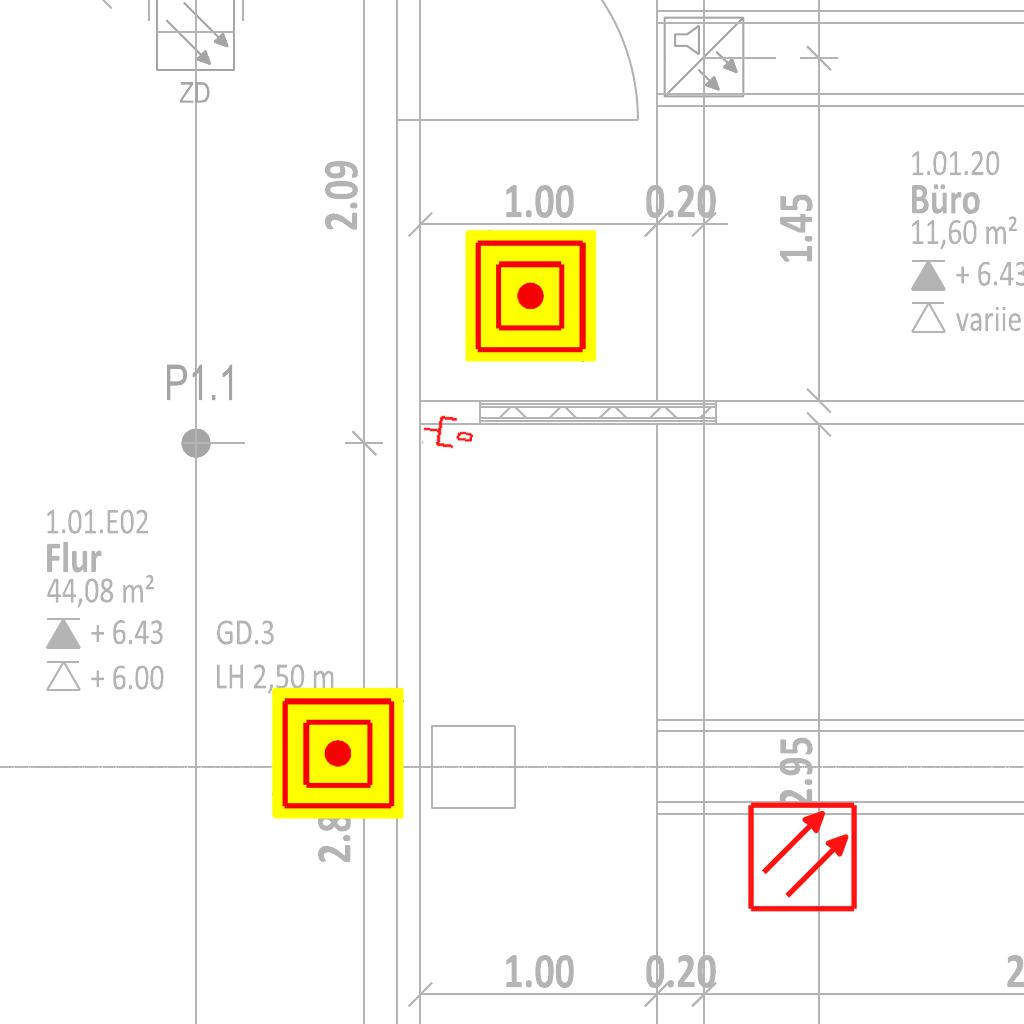Datenanschluss_einfach: (420, 411, 476, 453)
NAM-Nichtautomatischer_Melder: (272, 687, 404, 819), (465, 230, 597, 362)
RMO_Rauchmelder_optischer: (746, 800, 859, 913)
